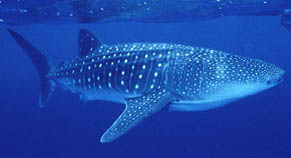Rhincodon_typusw: (8, 27, 287, 138)
